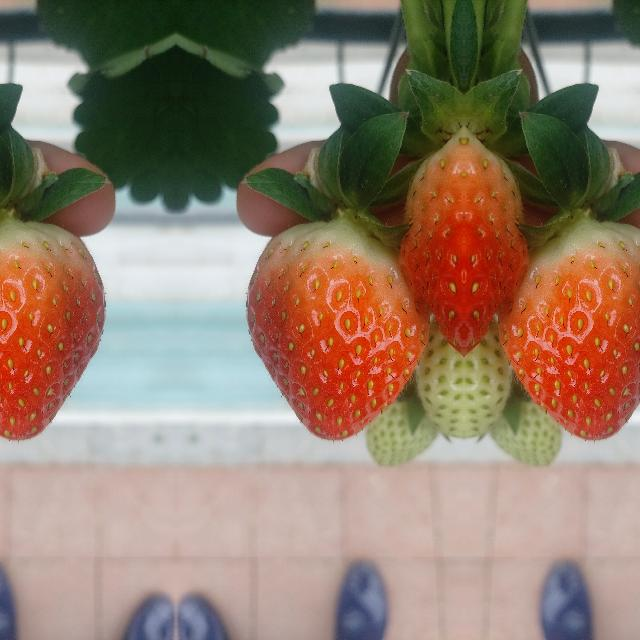Health_100: (245, 221, 427, 439), (499, 221, 640, 439), (0, 221, 105, 439), (400, 119, 462, 358), (464, 119, 526, 358)
